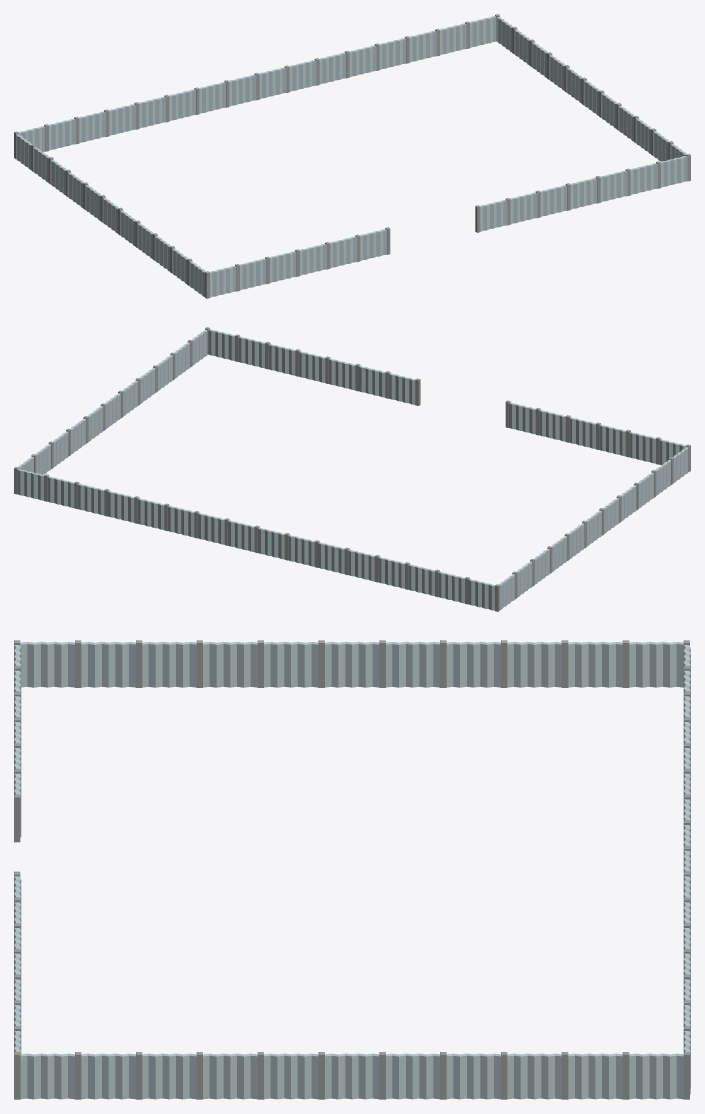
File: junkyard2.fbx
3 views of the same model, one above another, from view 1: azimuth 30°, elevation 25°; view 2: azimuth 150°, elevation 25°; view 3: azimuth 270°, elevation 25° (orthographic). The views are drawn at different scales.
Parts seen in each view (by area): view 1: Cube.021, Cube.044, Cube.017, Cube.020, Cube.037, Cube.040, Cube.045, Cube.048, Cube.028, Cube.029, Cube.024, Cube.041 (+18 smaller); view 2: Cube.044, Cube.020, Cube.045, Cube.021, Cube.024, Cube.041, Cube.017, Cube.036, Cube.004, Cube.029, Cube.053, Cube.008 (+18 smaller); view 3: Cube.094, Cube.105, Cube.070, Cube.071, Cube.074, Cube.083, Cube.091, Cube.085, Cube.088, Cube.089, Cube.090, Cube.097 (+10 smaller).
Part boxes in pixels (<box>): Cube.021: <box>600,170,627,202</box>; Cube.044: <box>409,31,436,62</box>; Cube.017: <box>510,192,537,224</box>; Cube.020: <box>540,185,567,216</box>; Cube.037: <box>289,60,316,91</box>; Cube.040: <box>259,67,286,98</box>; Cube.045: <box>349,45,376,76</box>; Cube.048: <box>319,53,346,84</box>; Cube.028: <box>480,200,507,231</box>; Cube.029: <box>630,163,657,194</box>; Cube.024: <box>570,178,597,209</box>; Cube.041: <box>379,38,406,69</box>; Cube.044: <box>77,483,104,515</box>; Cube.020: <box>328,358,355,390</box>; Cube.045: <box>137,498,164,529</box>; Cube.021: <box>268,343,295,375</box>; Cube.024: <box>298,351,325,382</box>; Cube.041: <box>107,490,134,522</box>; Cube.017: <box>358,365,385,397</box>; Cube.036: <box>47,476,74,507</box>; Cube.004: <box>629,432,655,463</box>; Cube.029: <box>238,336,264,368</box>; Cube.053: <box>258,527,284,559</box>; Cube.008: <box>599,424,625,456</box>; Cube.094: <box>568,1053,622,1099</box>; Cube.105: <box>203,641,257,687</box>; Cube.070: <box>81,1053,135,1099</box>; Cube.071: <box>203,1053,257,1099</box>; Cube.074: <box>142,1053,196,1099</box>; Cube.083: <box>629,1053,683,1099</box>; Cube.091: <box>507,1053,561,1099</box>; Cube.085: <box>568,641,622,687</box>; Cube.088: <box>507,641,561,687</box>; Cube.089: <box>629,641,683,687</box>; Cube.090: <box>264,641,318,687</box>; Cube.097: <box>325,641,379,687</box>.
Bounding box in the file's own units: 14394 × 734 × 9928.
